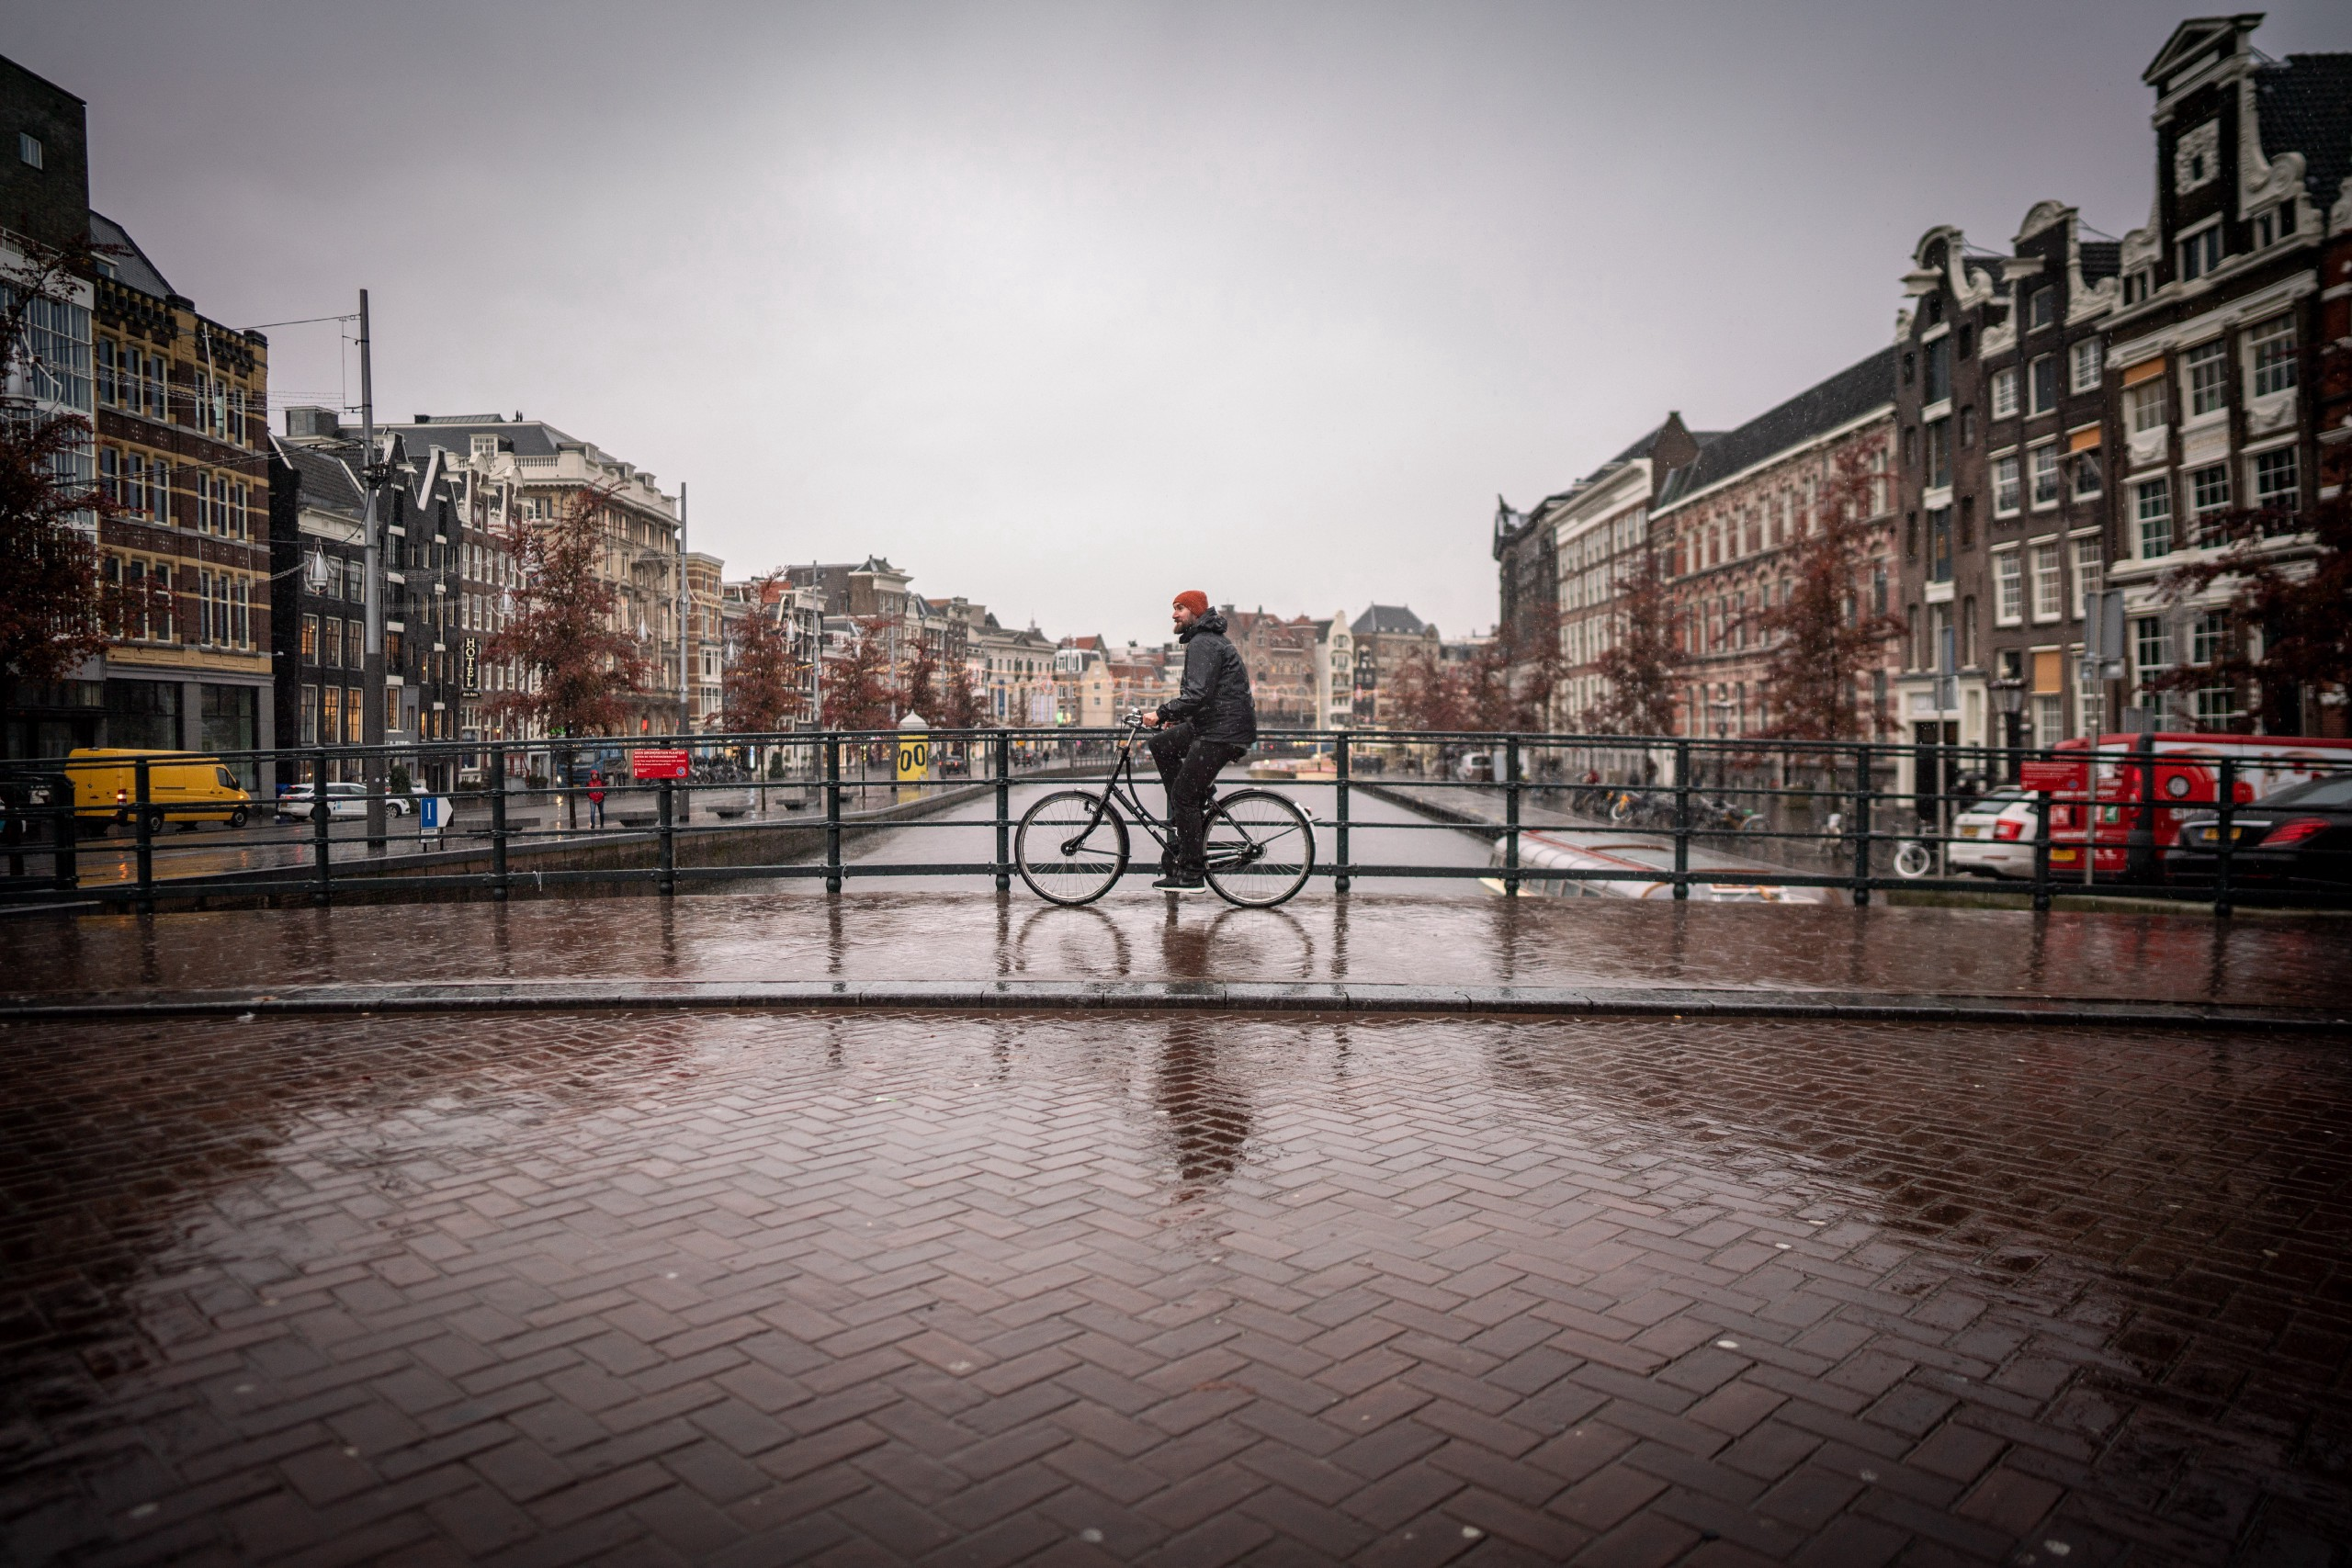commuter: (1006, 593, 1318, 920)
